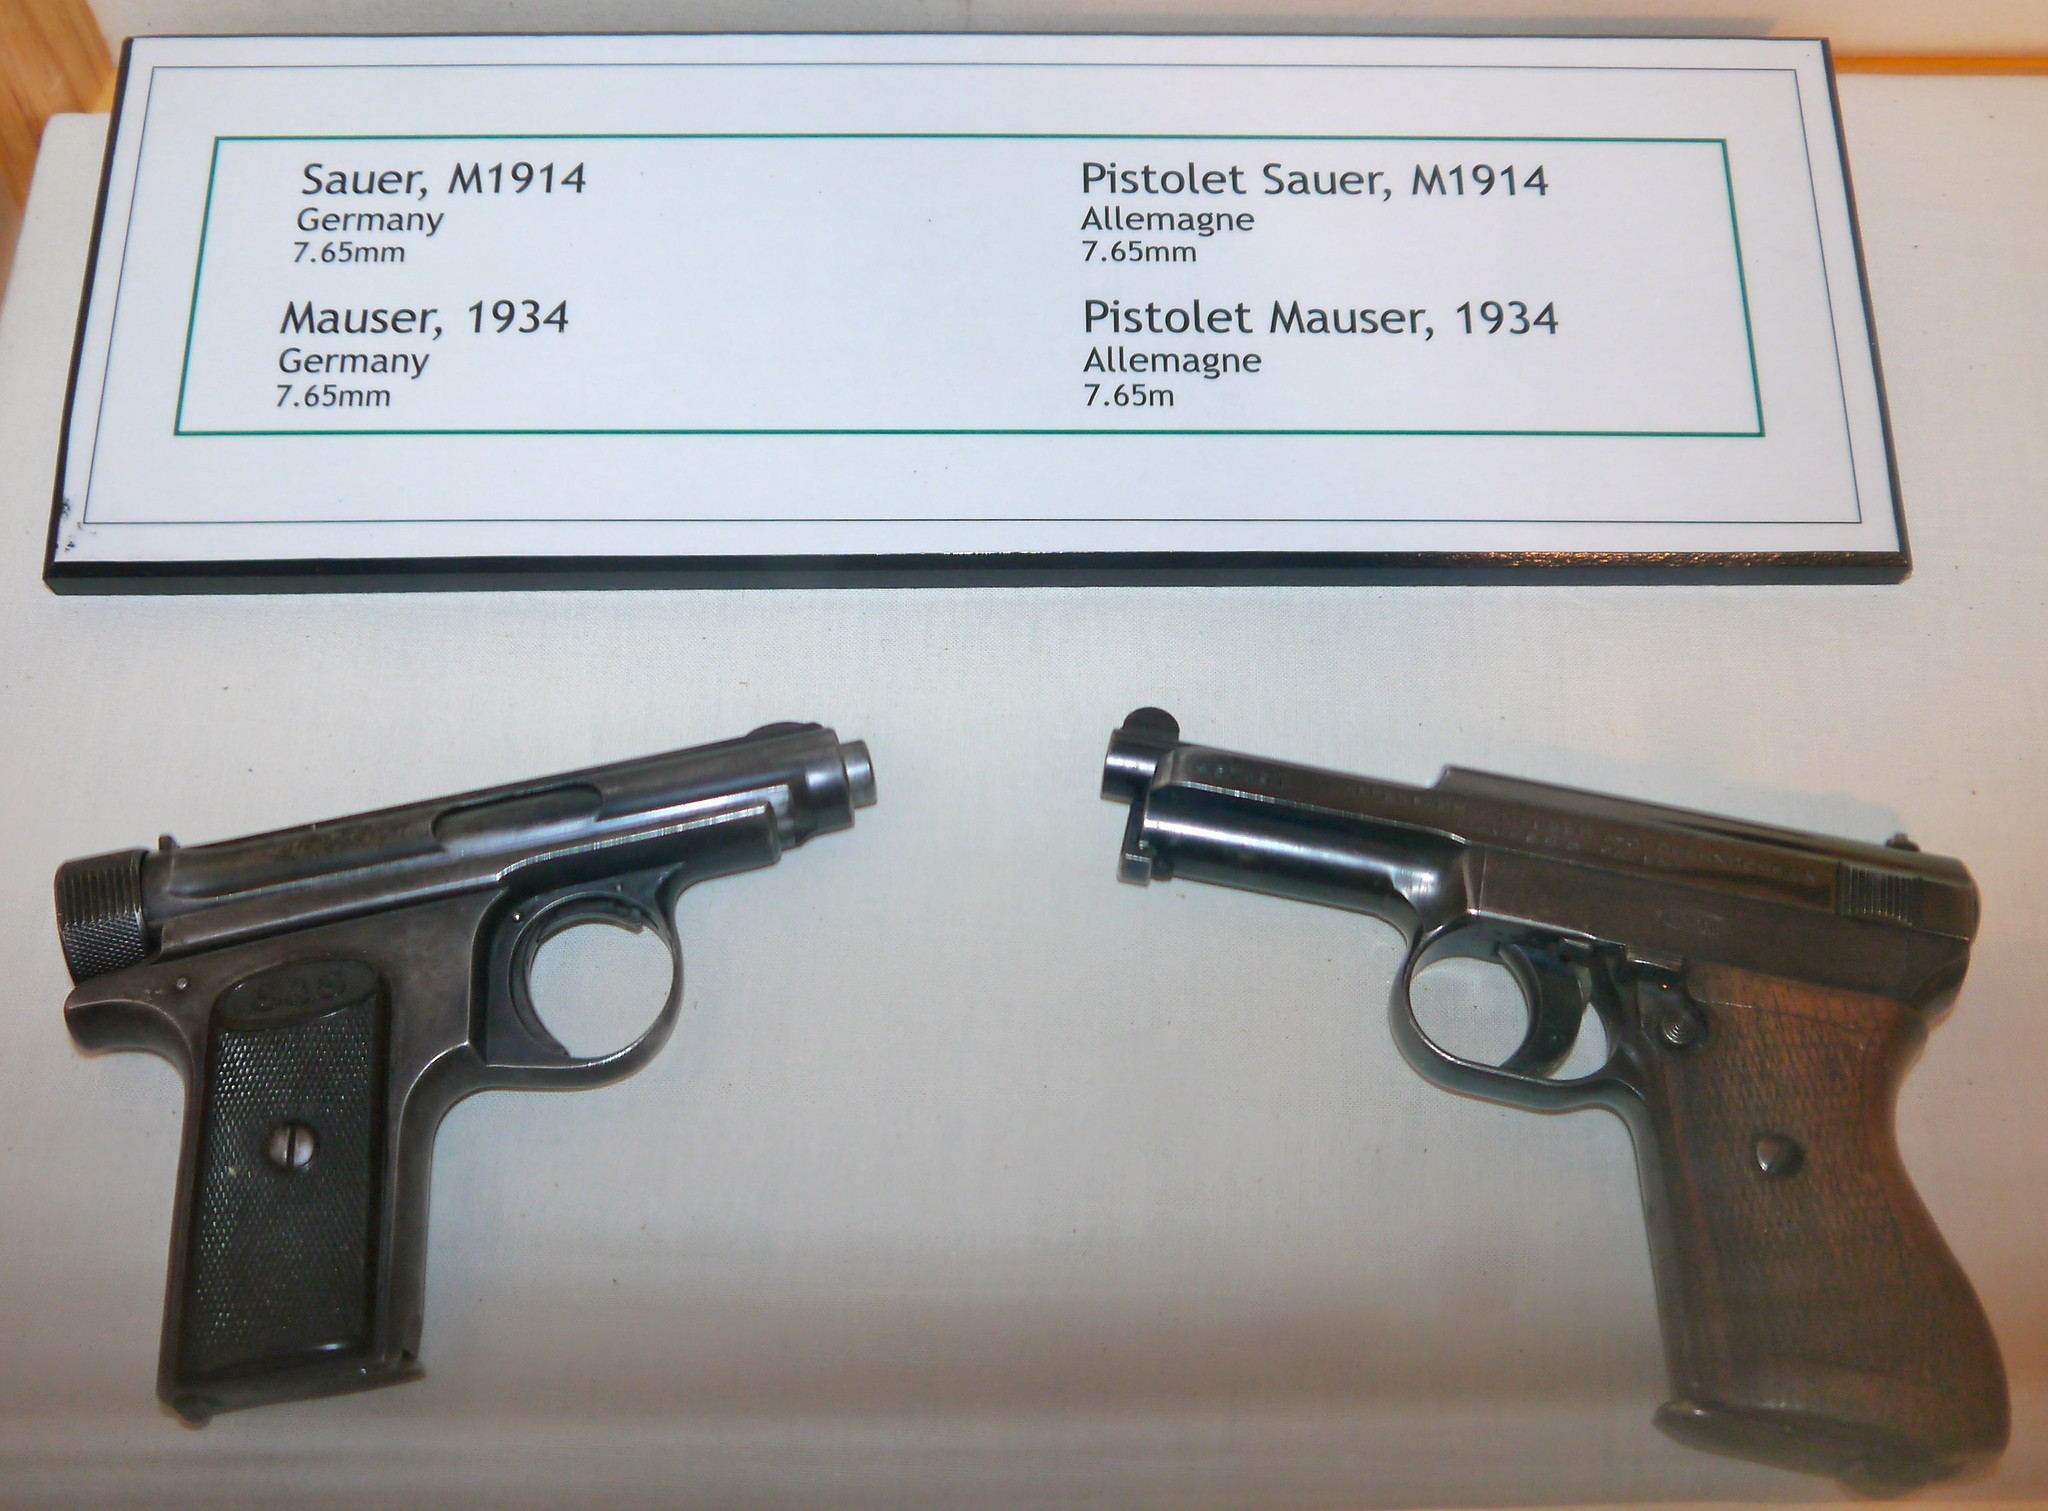gun: (1065, 697, 2029, 1501), (37, 701, 902, 1444)
